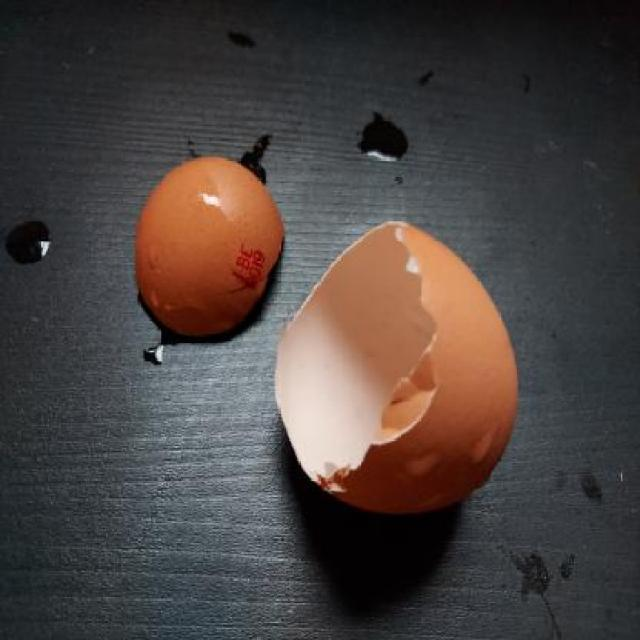biodegradable: (263, 221, 523, 521), (133, 152, 289, 346)
